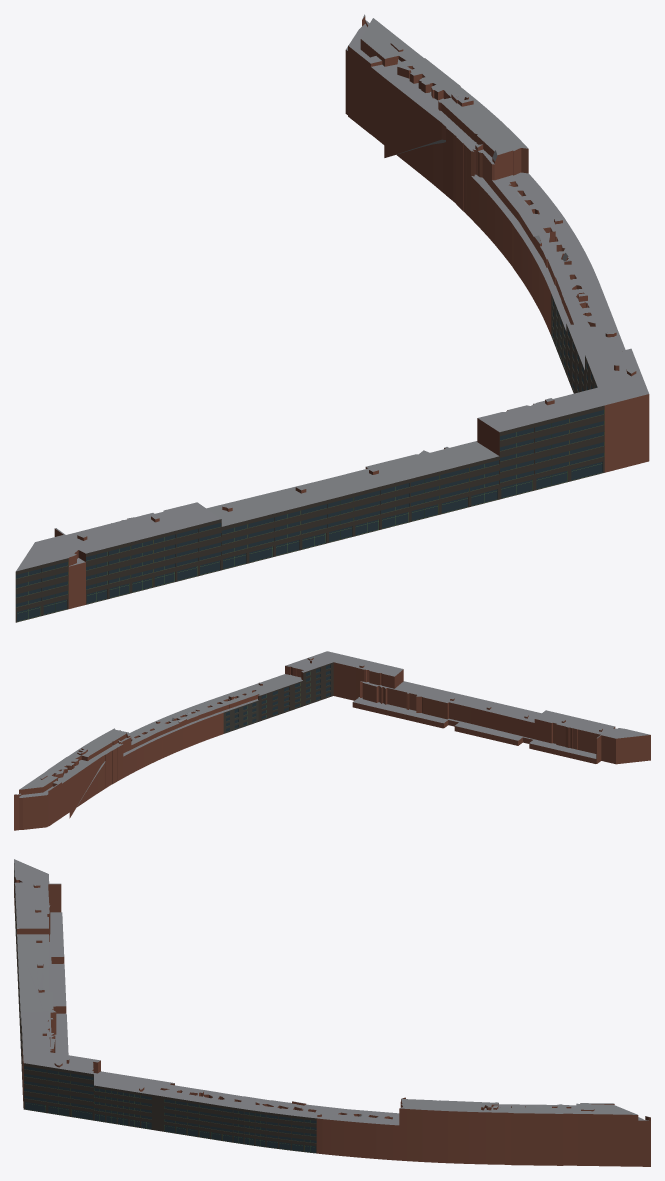
File: recipe-large-funenpark-427-184743.glb
3 views of the same model, one above another, from view 1: azimuth 30°, elevation 25°; view 2: azimuth 150°, elevation 25°; view 3: azimuth 270°, elevation 25° (orthographic). The views are drawn at different scales.
Parts seen in each view (by area): view 1: funenpark-427-184743; view 2: funenpark-427-184743; view 3: funenpark-427-184743.
Part boxes in pixels (left/top/right/bottom): funenpark-427-184743: left=15, top=14, right=649, bottom=622; funenpark-427-184743: left=14, top=651, right=650, bottom=830; funenpark-427-184743: left=14, top=859, right=650, bottom=1166.
Size of the model in its own units: 303 by 33.17 by 300.
